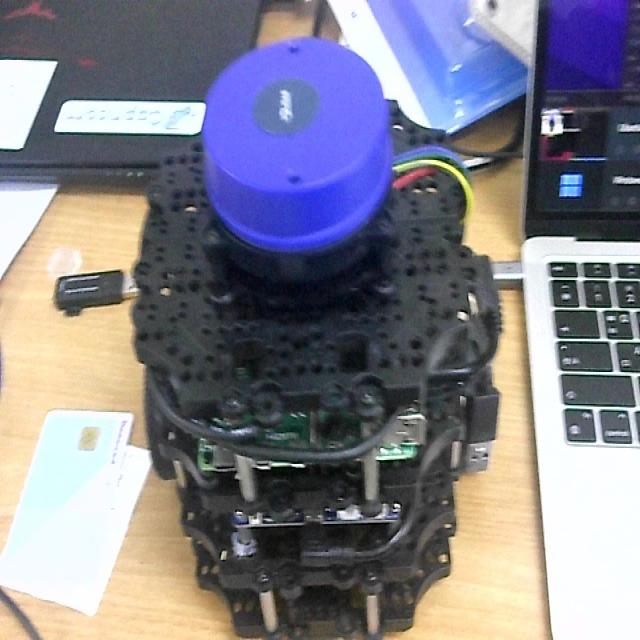turtle: (130, 36, 500, 640)
